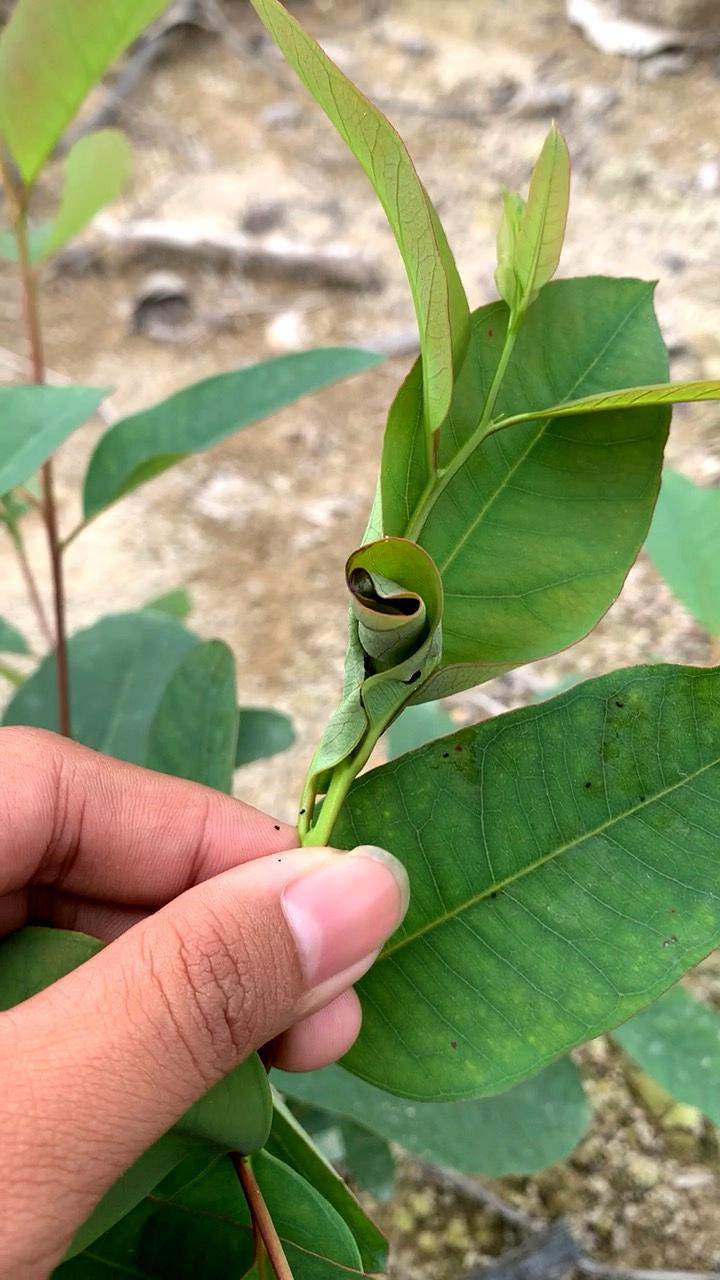Leaf Roller - Leaf: (305, 510, 533, 754)
